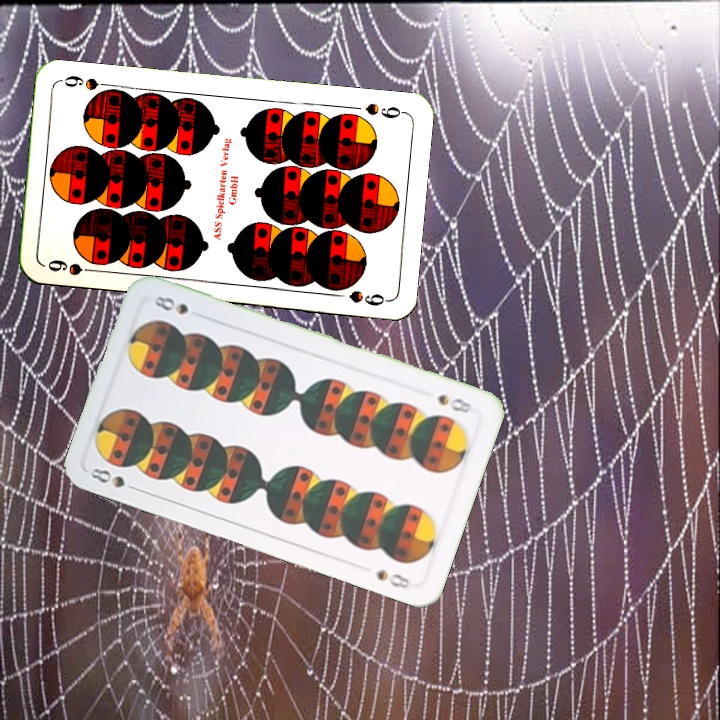S8: (86, 463, 143, 495), (433, 390, 476, 416)
S9: (44, 255, 102, 278), (361, 99, 408, 122)
